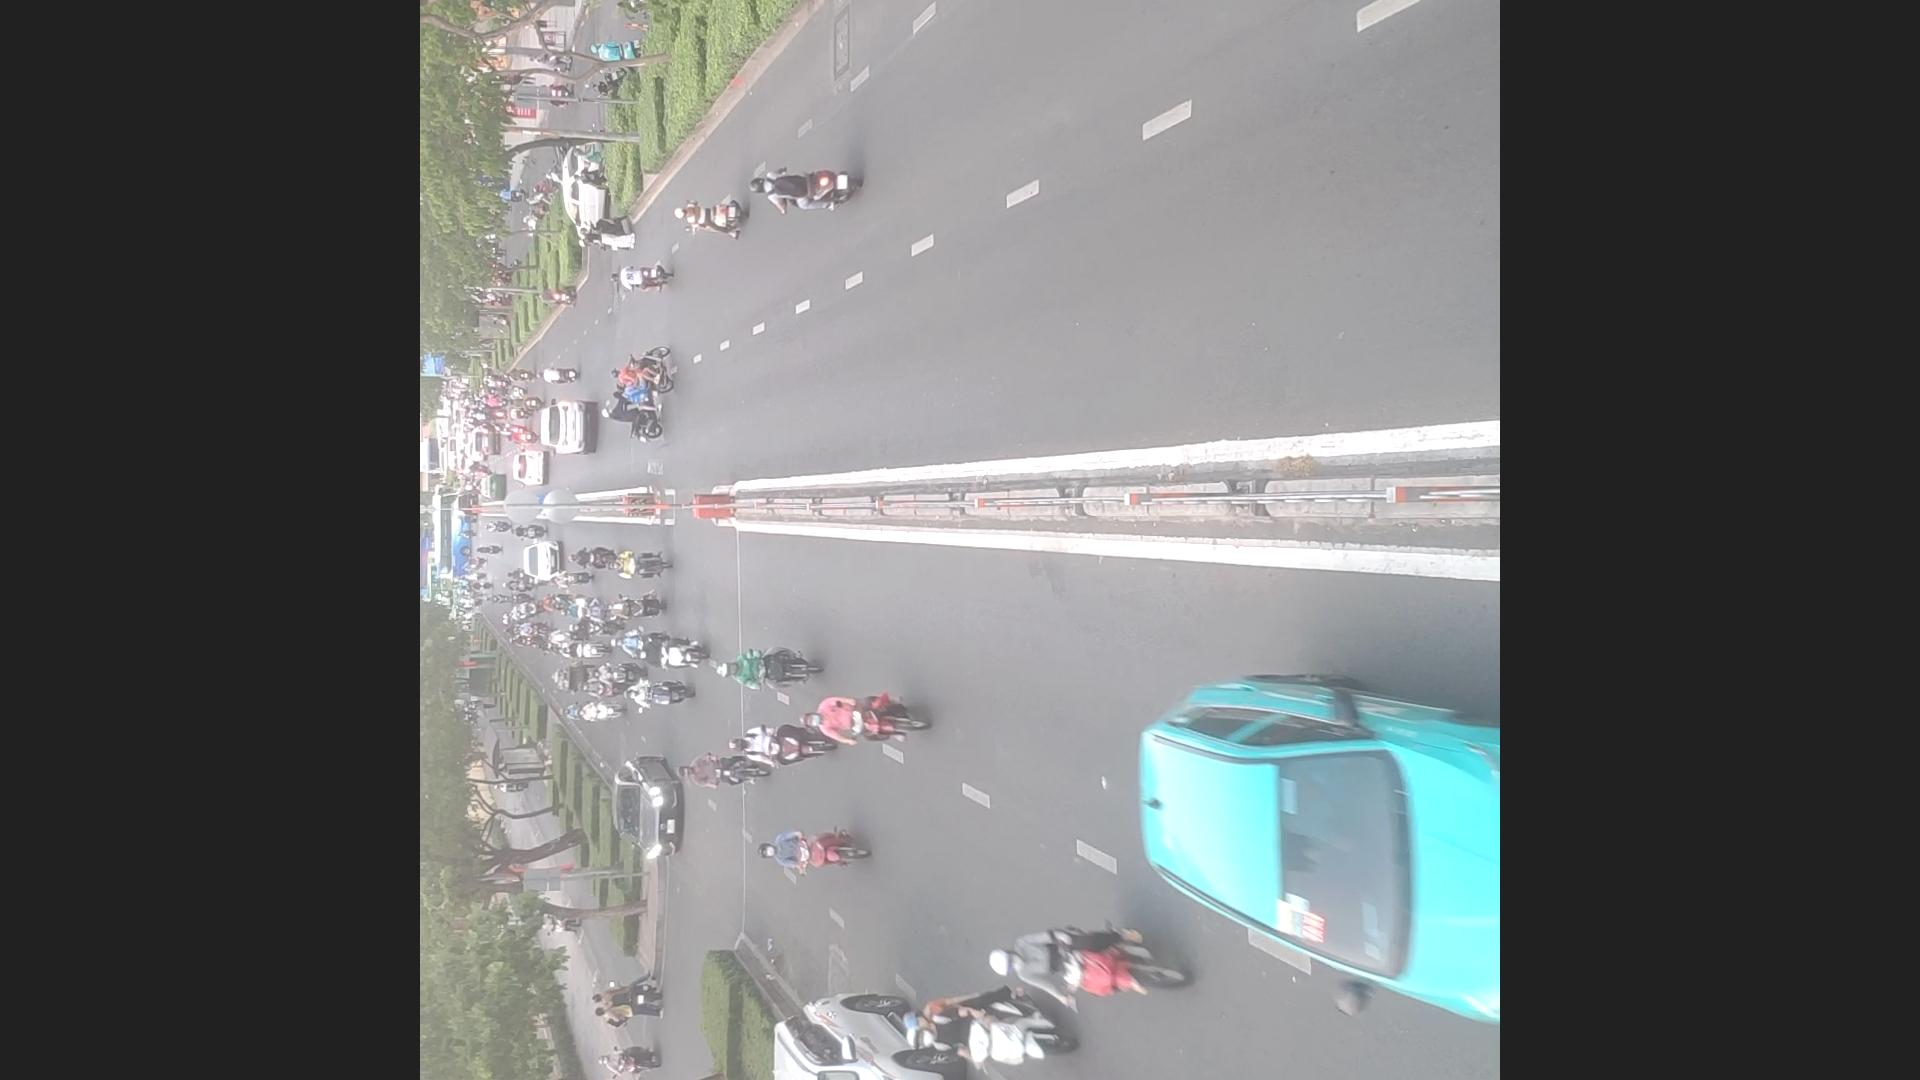car: (1121, 662, 1490, 992), (775, 986, 971, 1080), (615, 752, 683, 864), (562, 142, 609, 241), (545, 404, 588, 450)
motorbike: (986, 920, 1174, 1015), (905, 996, 1073, 1077), (798, 699, 913, 746), (742, 166, 869, 207), (754, 833, 873, 869), (727, 725, 831, 761), (611, 347, 675, 400), (605, 386, 662, 440), (679, 193, 753, 233), (679, 752, 757, 789), (716, 658, 825, 683), (611, 262, 673, 293), (626, 680, 694, 707), (636, 644, 694, 669), (615, 625, 665, 651), (611, 596, 662, 618), (615, 551, 666, 574), (571, 541, 613, 567), (591, 667, 649, 680), (578, 702, 618, 720), (571, 618, 608, 636), (553, 571, 593, 585), (563, 645, 604, 657), (549, 626, 574, 644), (563, 604, 593, 615), (582, 686, 615, 695)
